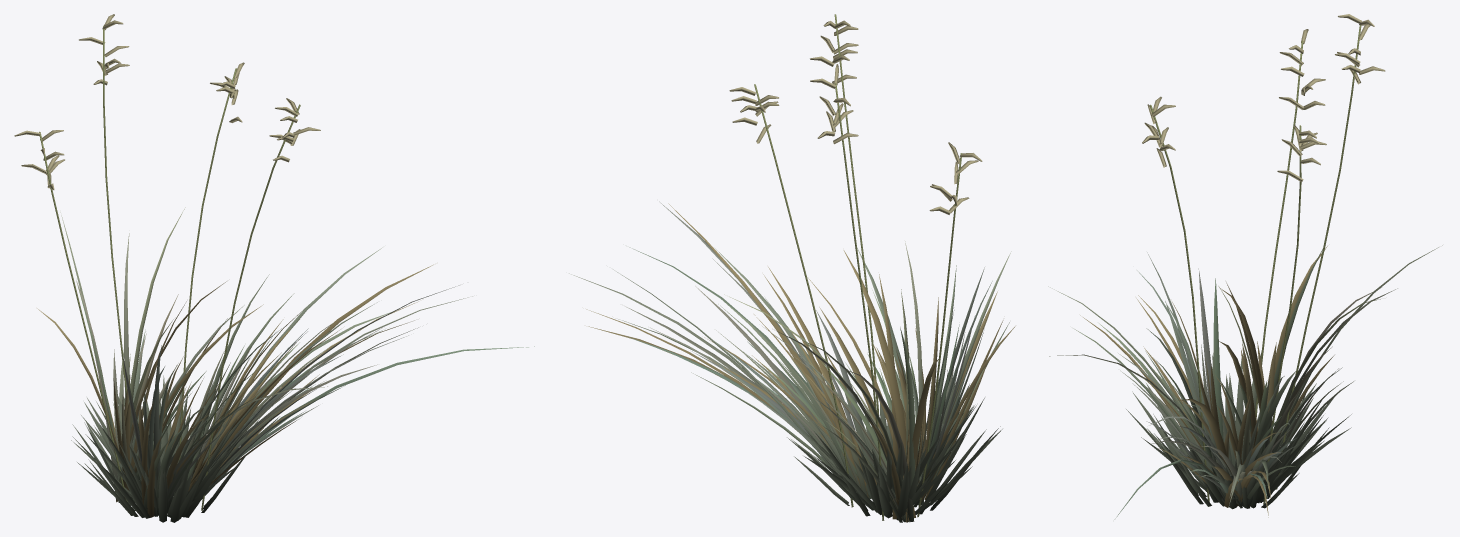
Rendered from eco_grass_coastal_dune_LOD0.glb.
3 renders of one model, left to right at view 1: azimuth 30°, elevation 25°; view 2: azimuth 150°, elevation 25°; view 3: azimuth 270°, elevation 25°, orthographic. The views are drawn at different scales.
Visible parts, largest first — view 1: eco_grass_coastal_dune_LOD0; view 2: eco_grass_coastal_dune_LOD0; view 3: eco_grass_coastal_dune_LOD0.
Boxes of the visible parts, bbox=[...] form: eco_grass_coastal_dune_LOD0: bbox=[14, 14, 534, 522]; eco_grass_coastal_dune_LOD0: bbox=[569, 14, 1015, 522]; eco_grass_coastal_dune_LOD0: bbox=[1048, 14, 1442, 519].
Bounding box in the file's own units: 0.7935 × 0.7879 × 0.5924.
